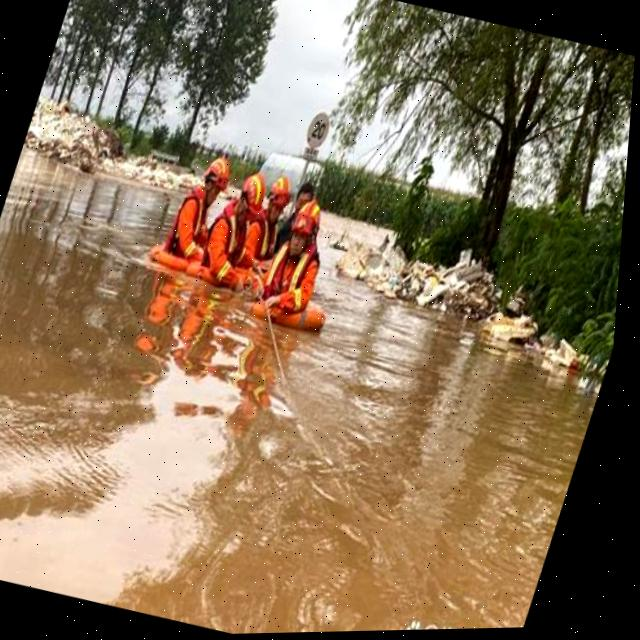civilian: (272, 172, 321, 236)
rescuer: (239, 182, 348, 329), (186, 159, 284, 301), (144, 139, 241, 275), (228, 169, 304, 280)
